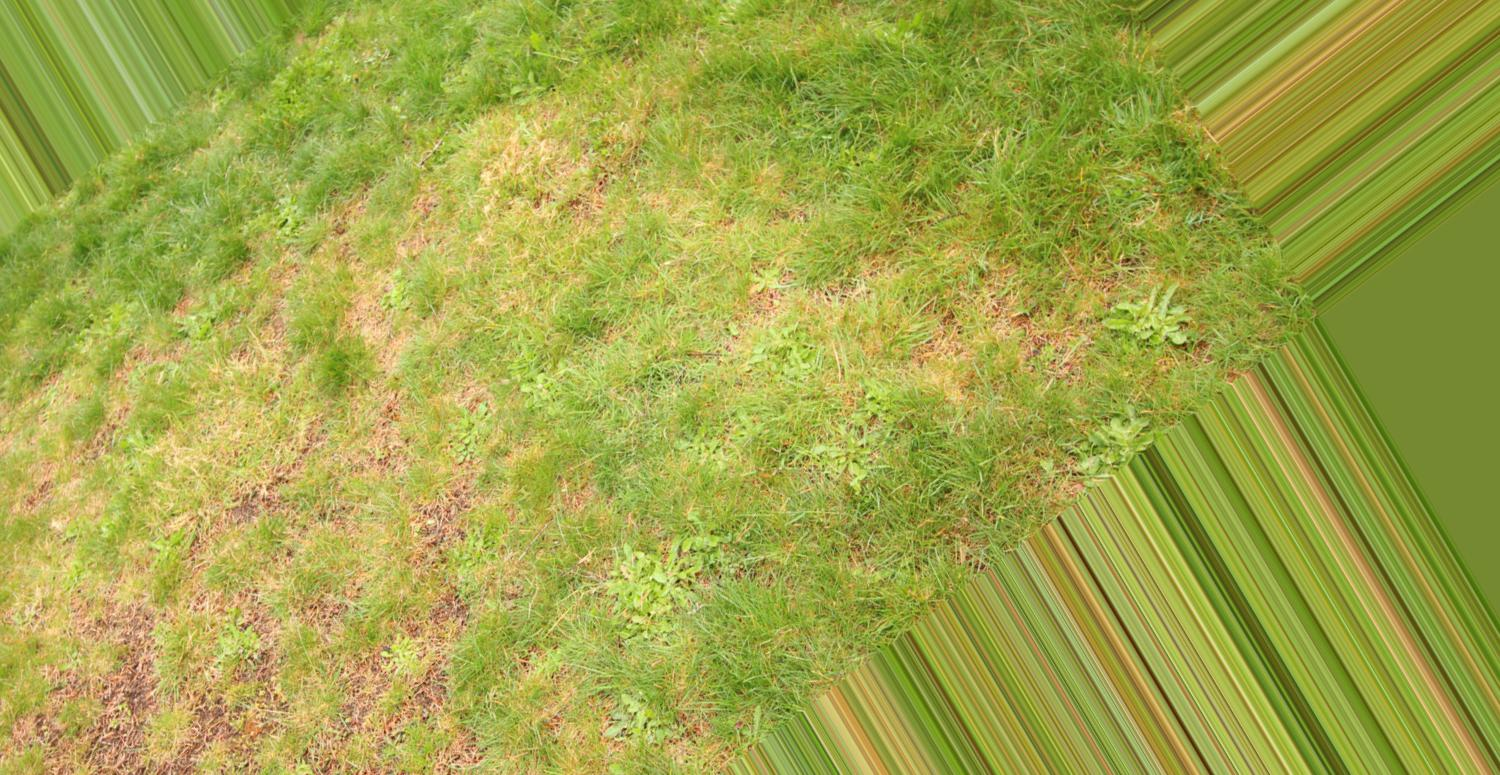patch: (75, 451, 418, 709), (310, 129, 629, 401)
